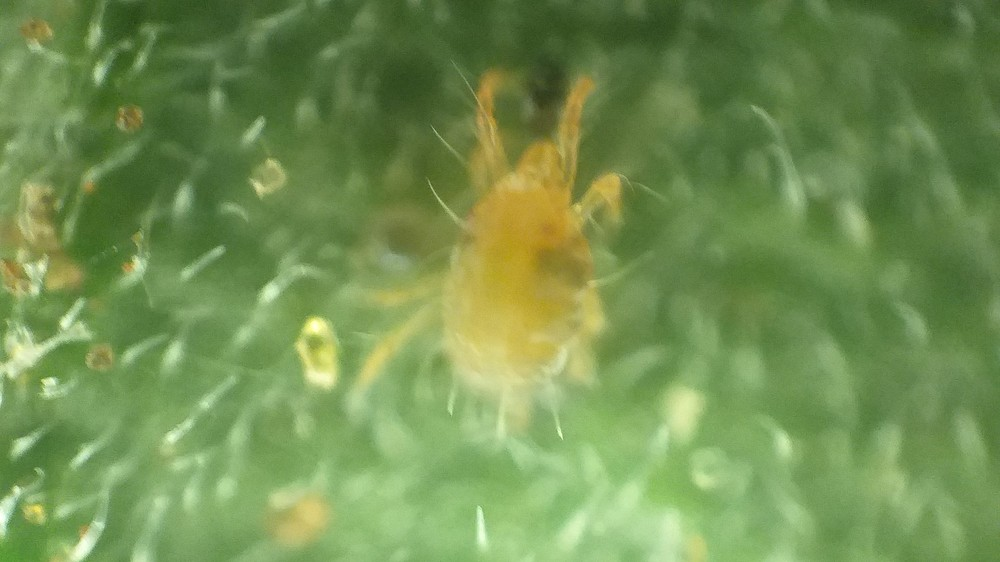Aracnido Rojo: (376, 47, 662, 457)
